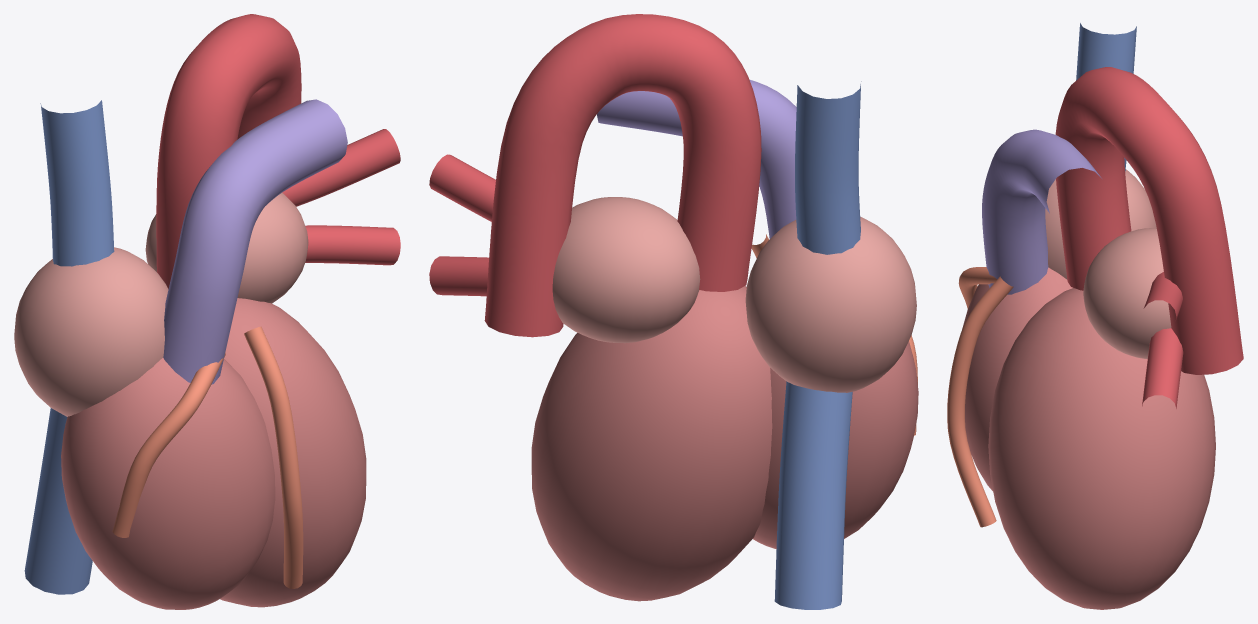
The model's file is heart.glb.
3 views of the same model, side by side, from view 1: azimuth 30°, elevation 25°; view 2: azimuth 150°, elevation 25°; view 3: azimuth 270°, elevation 25° (orthographic). The views are drawn at different scales.
Parts seen in each view (by area): view 1: right_ventricle, left_ventricle, pulmonary_trunk, right_atrium, aorta, superior_vena_cava, pulmonary_veins, inferior_vena_cava, left_atrium, left_coronary_artery, right_coronary_artery; view 2: left_ventricle, aorta, right_atrium, left_atrium, inferior_vena_cava, right_ventricle, superior_vena_cava, pulmonary_trunk, pulmonary_veins; view 3: left_ventricle, aorta, pulmonary_trunk, left_atrium, right_ventricle, left_coronary_artery, pulmonary_veins, right_atrium, superior_vena_cava, right_coronary_artery.
Boxes of the visible parts, box(x1,y1,x2,y2) form: right_ventricle: box(61, 358, 275, 609); left_ventricle: box(220, 298, 366, 607); pulmonary_trunk: box(163, 99, 347, 384); right_atrium: box(14, 247, 168, 416); aorta: box(156, 14, 301, 288); superior_vena_cava: box(40, 100, 114, 266); pulmonary_veins: box(282, 129, 400, 265); inferior_vena_cava: box(24, 408, 92, 594); left_atrium: box(145, 192, 308, 303); left_coronary_artery: box(244, 326, 303, 588); right_coronary_artery: box(112, 353, 225, 537); left_ventricle: box(531, 286, 772, 601); aorta: box(484, 14, 761, 337); right_atrium: box(745, 217, 916, 392); left_atrium: box(552, 197, 700, 343); inferior_vena_cava: box(774, 381, 852, 609); right_ventricle: box(753, 341, 918, 549); superior_vena_cava: box(795, 81, 861, 254); pulmonary_trunk: box(597, 80, 796, 238); pulmonary_veins: box(429, 154, 495, 296); left_ventricle: box(988, 288, 1215, 609); aorta: box(1055, 67, 1243, 374); pulmonary_trunk: box(982, 129, 1101, 294); left_atrium: box(1083, 228, 1171, 358); right_ventricle: box(962, 267, 1072, 491); left_coronary_artery: box(947, 276, 1013, 527); pulmonary_veins: box(1142, 272, 1183, 408); right_atrium: box(1045, 169, 1156, 279); superior_vena_cava: box(1076, 23, 1136, 171); right_coronary_artery: box(958, 267, 997, 308).
Bounding box in the file's own units: 0.1373 × 0.1807 × 0.0938.
